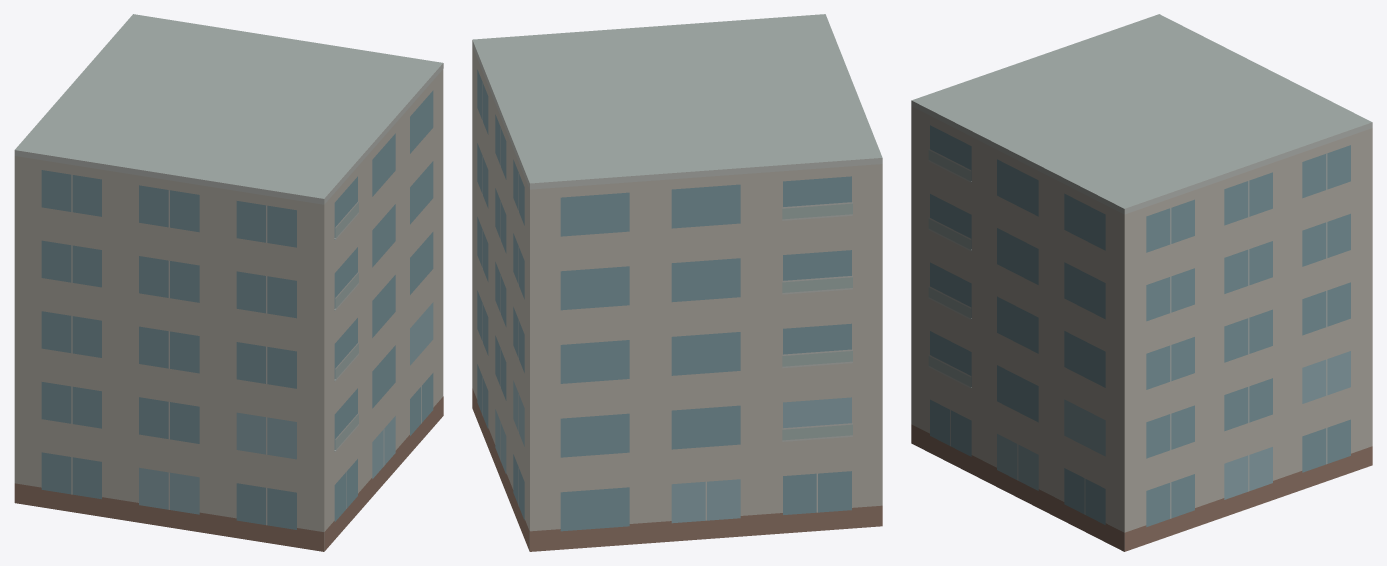
The model's file is survey-upis-32845693.glb.
The picture shows the model from 3 angles, left to right: view 1: azimuth 30°, elevation 25°; view 2: azimuth 150°, elevation 25°; view 3: azimuth 270°, elevation 25°; orthographic projection. The views are drawn at different scales.
Visible parts, largest first — view 1: survey-upis-32845693.tmp; view 2: survey-upis-32845693.tmp; view 3: survey-upis-32845693.tmp.
Boxes of the visible parts, x1=… form: survey-upis-32845693.tmp: x1=14, y1=14, x2=443, y2=551; survey-upis-32845693.tmp: x1=472, y1=14, x2=882, y2=551; survey-upis-32845693.tmp: x1=911, y1=14, x2=1372, y2=551.
Size of the model in its own units: 17.8 by 14.6 by 17.79.
